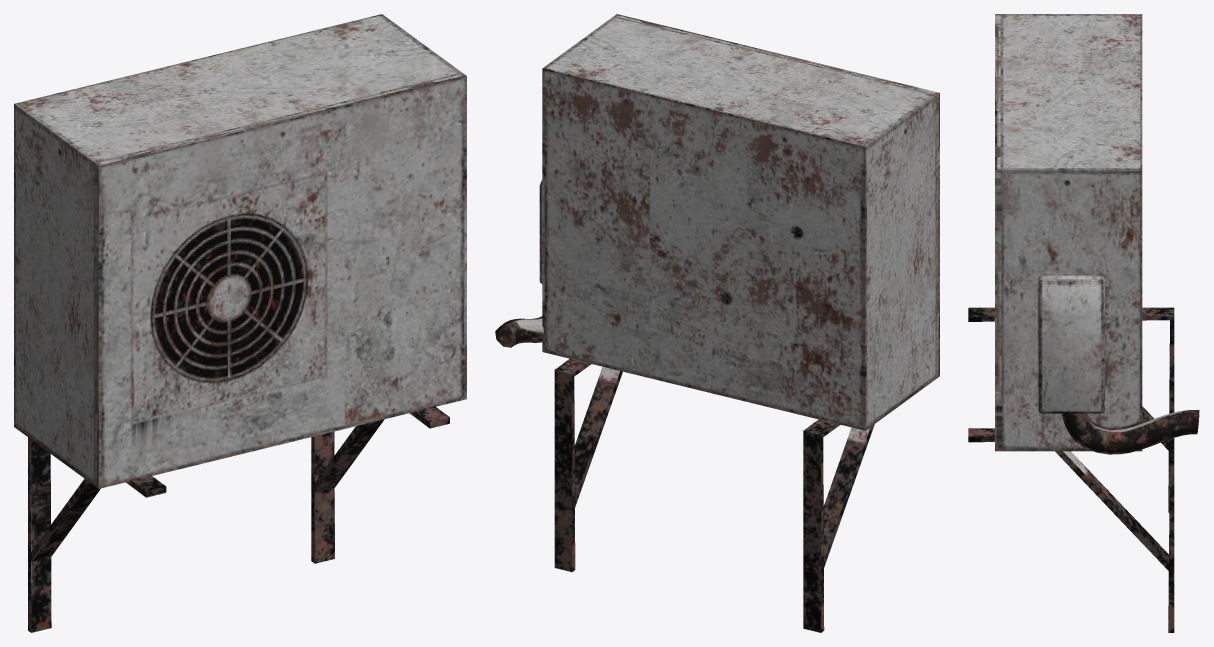
Rendered from ac_unit_weathered.glb.
3 renders of one model, left to right at view 1: azimuth 30°, elevation 25°; view 2: azimuth 150°, elevation 25°; view 3: azimuth 270°, elevation 25°, orthographic. The views are drawn at different scales.
Parts seen in each view (by area): view 1: ac_unit_weathered; view 2: ac_unit_weathered; view 3: ac_unit_weathered.
Boxes of the visible parts, x1,y1,x2,y2 form: ac_unit_weathered: (14, 14, 466, 632); ac_unit_weathered: (495, 14, 939, 632); ac_unit_weathered: (968, 14, 1199, 632).
Bounding box in the file's own units: 0.8 × 1.06 × 0.4662.
1 material, 1 textured.
